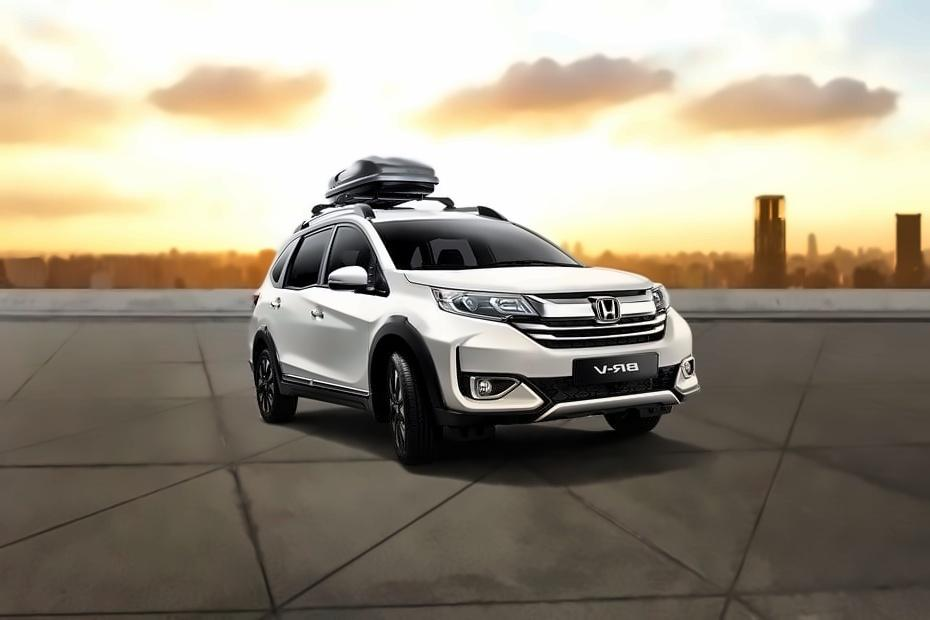Car hood: (401, 264, 659, 296)
Driver-s door - -F-R-: (309, 218, 370, 402)
Fender - -F-R-: (368, 266, 441, 418)
Fender - -R-R-: (255, 286, 271, 336)
Front bumper: (415, 311, 706, 432)
Headlight - -L-: (645, 279, 674, 316)
Headlight - -R-: (428, 282, 542, 324)
Passenger-s door - -R-R-: (269, 221, 333, 399)
Rear bumper: (241, 324, 258, 374)
Rear light - -R-: (249, 281, 262, 311)
Side bumper - -R-: (272, 371, 381, 425)
Side mirror - -R-: (325, 259, 375, 295)
